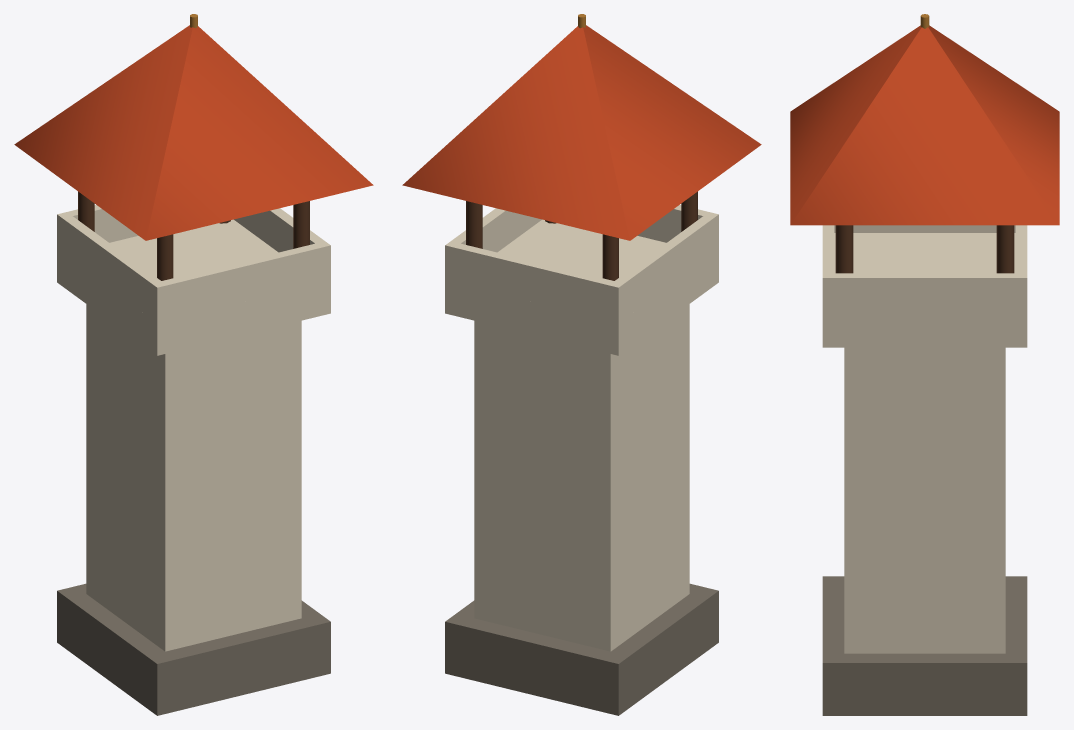
Rendered from wall_tower.glb.
3 renders of one model, left to right at view 1: azimuth 30°, elevation 25°; view 2: azimuth 150°, elevation 25°; view 3: azimuth 270°, elevation 25°, orthographic. The views are drawn at different scales.
Visible parts, largest first — view 1: wall_tower; view 2: wall_tower; view 3: wall_tower.
Part boxes in pixels (x1,y1,x2,y2): wall_tower: [14, 14, 373, 715]; wall_tower: [402, 14, 761, 715]; wall_tower: [790, 14, 1059, 715].
Bounding box in the file's own units: 1.84 × 4.95 × 1.84.
